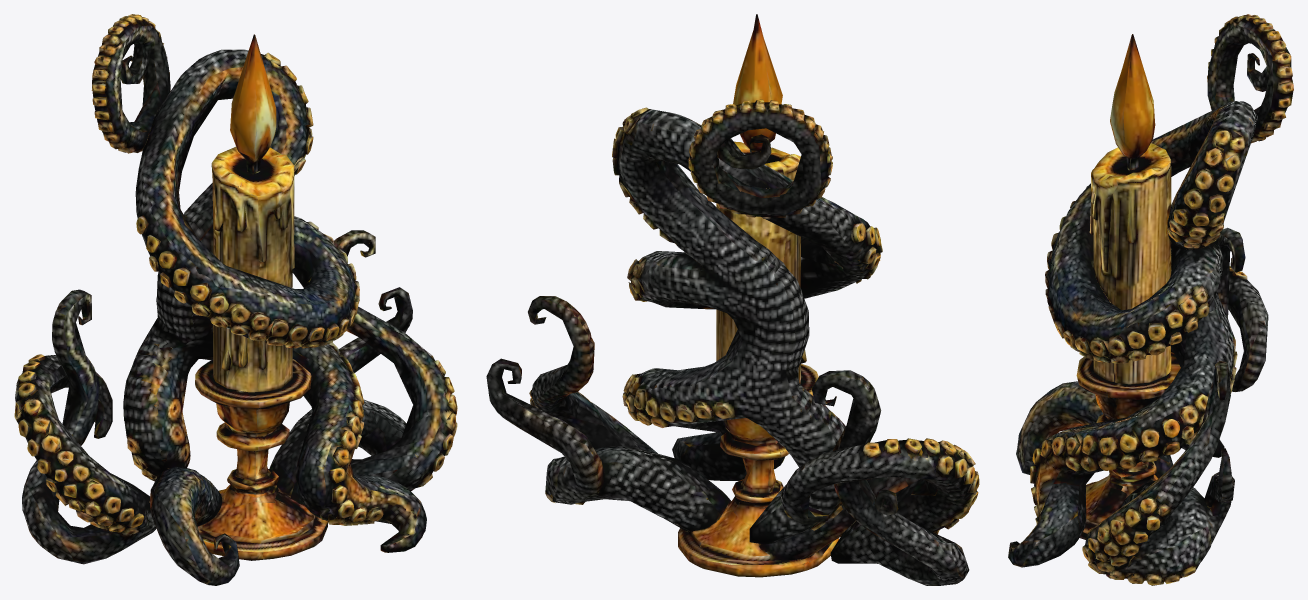
The model's file is candle.glb.
3 renders of one model, left to right at view 1: azimuth 30°, elevation 25°; view 2: azimuth 150°, elevation 25°; view 3: azimuth 270°, elevation 25°, orthographic. The views are drawn at different scales.
Visible parts, largest first — view 1: mesh; view 2: mesh; view 3: mesh.
Part boxes in pixels (x1=…): mesh: x1=14, y1=14, x2=457, y2=585; mesh: x1=486, y1=14, x2=979, y2=585; mesh: x1=1008, y1=14, x2=1293, y2=585.
Size of the model in its own units: 1.76 by 2 by 1.07.
Materials: 1 (1 with a texture image).
